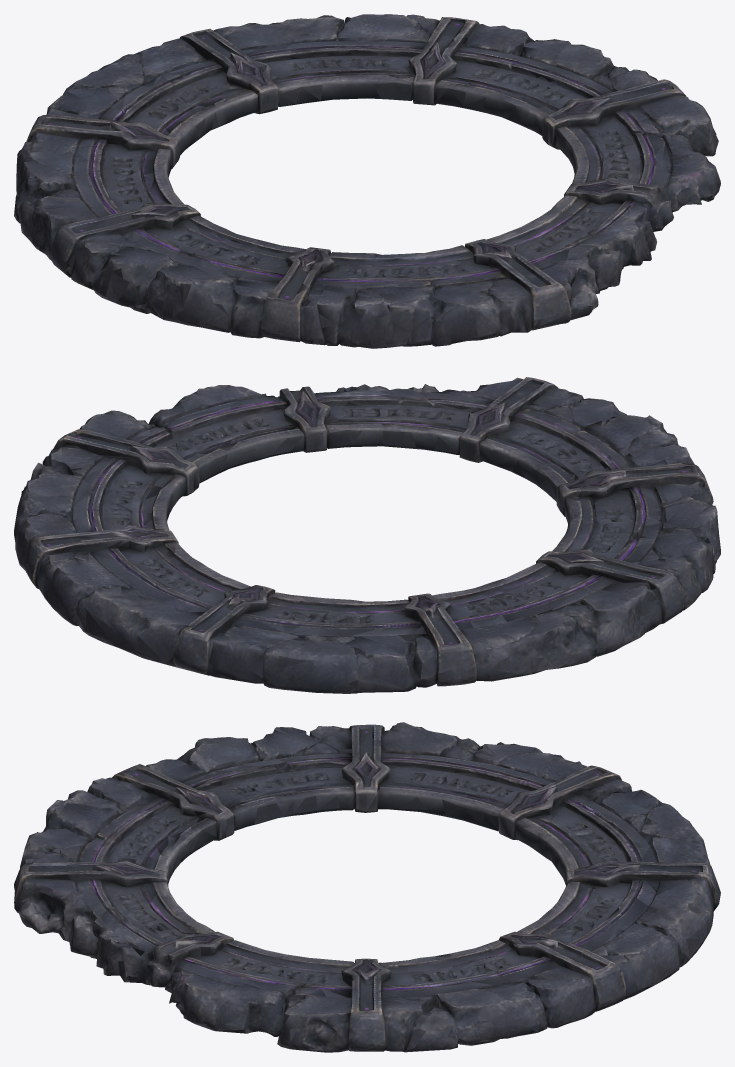
File: ZeroBasaltRing.glb
3 views of the same model, one above another, from view 1: azimuth 30°, elevation 25°; view 2: azimuth 150°, elevation 25°; view 3: azimuth 270°, elevation 25° (orthographic). The views are drawn at different scales.
Visible parts, largest first — view 1: tripo_node_e31cd14c-680a-426e-81f1-ca6a294d7a9a; view 2: tripo_node_e31cd14c-680a-426e-81f1-ca6a294d7a9a; view 3: tripo_node_e31cd14c-680a-426e-81f1-ca6a294d7a9a.
Part boxes in pixels (x1,y1,x2,y2): tripo_node_e31cd14c-680a-426e-81f1-ca6a294d7a9a: (14,14,720,348); tripo_node_e31cd14c-680a-426e-81f1-ca6a294d7a9a: (14,377,720,693); tripo_node_e31cd14c-680a-426e-81f1-ca6a294d7a9a: (14,722,720,1052).
Size of the model in its own units: 0.9782 by 0.0699 by 0.9779.
Materials: 1 (1 with a texture image).
